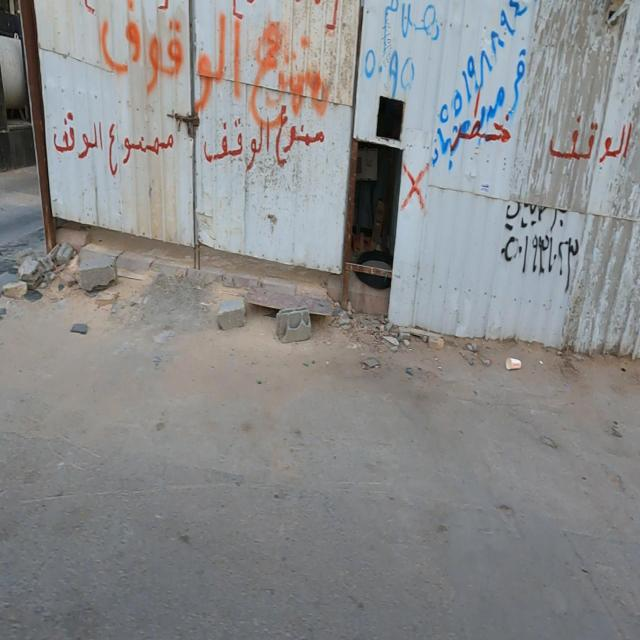Graffiti: (84, 1, 342, 111), (435, 1, 528, 170), (51, 111, 174, 179), (203, 110, 326, 171), (365, 1, 441, 98), (501, 202, 580, 293), (551, 117, 633, 170), (402, 164, 433, 213)
